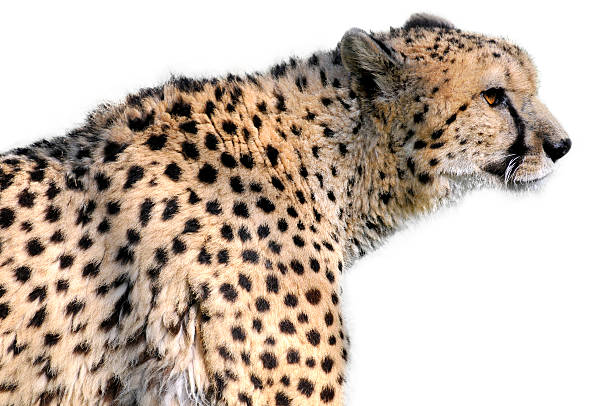cheetah: (327, 11, 588, 218)
